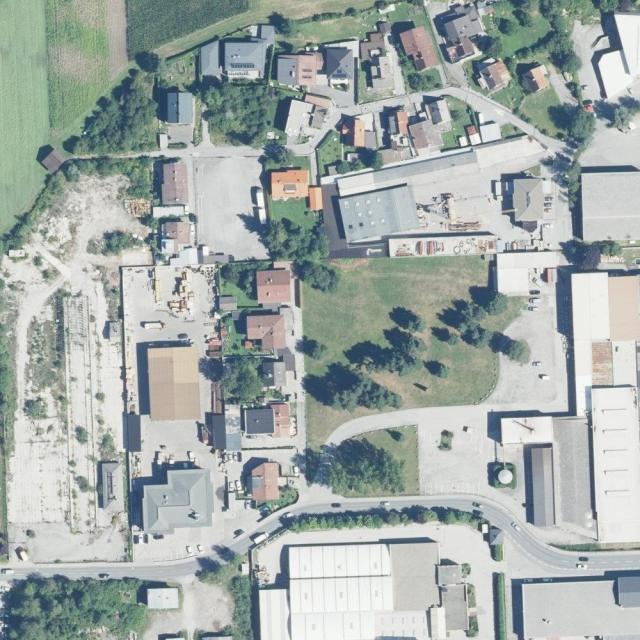agricultural_land: (149, 0, 376, 59), (127, 0, 249, 59)
building: (335, 130, 547, 203), (557, 267, 639, 415), (336, 101, 455, 169), (240, 307, 308, 403), (550, 416, 595, 530), (337, 183, 421, 244), (144, 470, 212, 533), (147, 346, 200, 422), (274, 43, 356, 90), (431, 0, 490, 65), (388, 232, 498, 258), (354, 29, 396, 95), (523, 444, 555, 527), (572, 273, 611, 340), (609, 275, 640, 341), (596, 48, 636, 99), (399, 24, 439, 74), (470, 53, 514, 96), (223, 37, 268, 78), (454, 109, 502, 147), (161, 221, 200, 264), (259, 589, 290, 640), (500, 416, 554, 444), (97, 461, 124, 513), (512, 179, 544, 221), (256, 268, 292, 305), (248, 461, 280, 502), (611, 340, 638, 386), (32, 140, 67, 174), (270, 169, 309, 199), (496, 251, 561, 269), (424, 98, 455, 135), (211, 414, 240, 451), (161, 162, 186, 204), (324, 38, 363, 64), (590, 341, 613, 385), (521, 63, 553, 94), (267, 401, 292, 438), (244, 406, 275, 435), (496, 268, 529, 295), (167, 92, 194, 124), (200, 40, 222, 78), (146, 587, 179, 610), (152, 206, 190, 218), (258, 23, 277, 46), (202, 252, 234, 264), (308, 186, 323, 211), (219, 296, 238, 312), (243, 23, 258, 37)
dryland: (0, 175, 149, 564), (191, 154, 268, 263)
greenland: (296, 248, 532, 447), (253, 202, 358, 299), (63, 68, 158, 154), (0, 166, 75, 262), (513, 78, 604, 157), (328, 426, 420, 498), (281, 504, 481, 533), (60, 147, 159, 200), (201, 82, 271, 145), (267, 7, 359, 38), (217, 353, 266, 407), (219, 260, 274, 307), (269, 199, 319, 229), (157, 55, 195, 91), (259, 138, 298, 171)
metalled_road: (382, 466, 582, 574), (439, 75, 566, 158), (321, 392, 469, 447), (0, 557, 198, 586), (283, 105, 359, 174), (226, 515, 285, 559), (281, 495, 384, 514), (150, 146, 263, 158), (352, 96, 423, 114), (308, 444, 335, 486), (197, 117, 217, 149), (410, 91, 443, 105), (336, 101, 359, 120), (311, 169, 319, 181), (202, 105, 207, 113)
